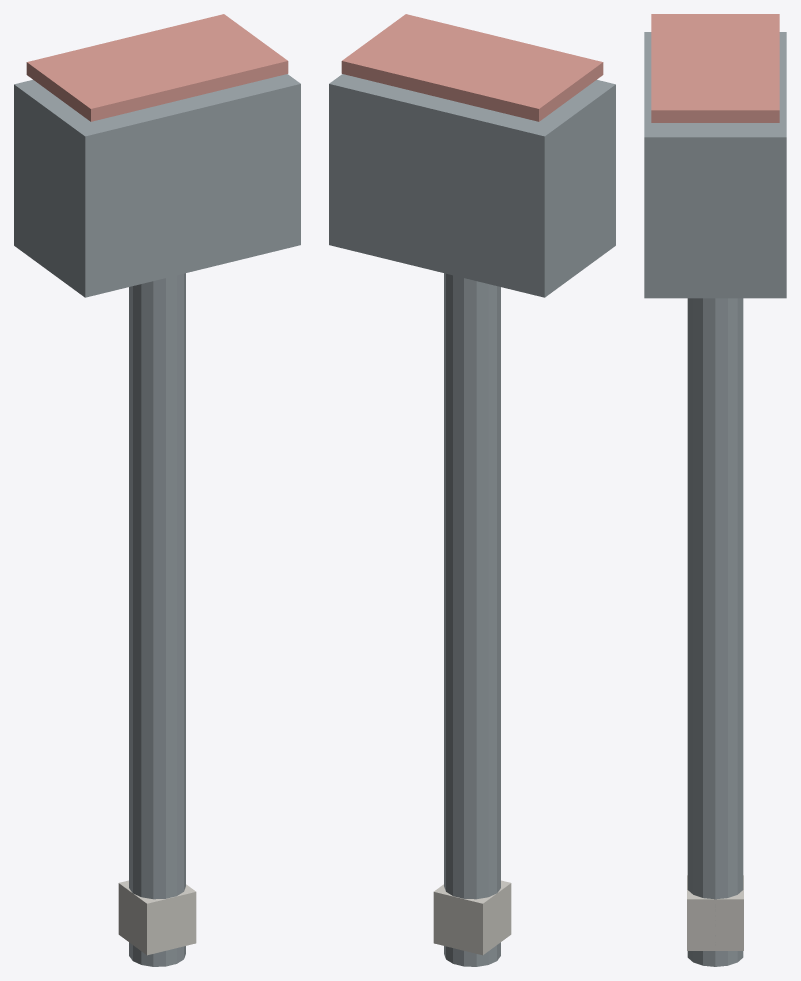
File: mailbox_basic.glb
The picture shows the model from 3 angles, left to right: view 1: azimuth 30°, elevation 25°; view 2: azimuth 150°, elevation 25°; view 3: azimuth 270°, elevation 25°; orthographic projection.
Visible parts, largest first — view 1: p000, p001, p003, p002; view 2: p000, p001, p003, p002; view 3: p001, p000, p003, p002.
Boxes of the visible parts, x1,y1,x2,y2 form: p000: (14, 74, 300, 297); p001: (129, 273, 185, 966); p003: (26, 14, 288, 121); p002: (118, 880, 196, 955); p000: (329, 74, 615, 297); p001: (444, 273, 500, 966); p003: (341, 14, 603, 121); p002: (433, 880, 511, 955); p001: (687, 298, 743, 966); p000: (644, 32, 786, 298); p003: (651, 14, 779, 122); p002: (687, 875, 743, 950).
Bounding box in the file's own units: 0.35 × 1.39 × 0.2.
